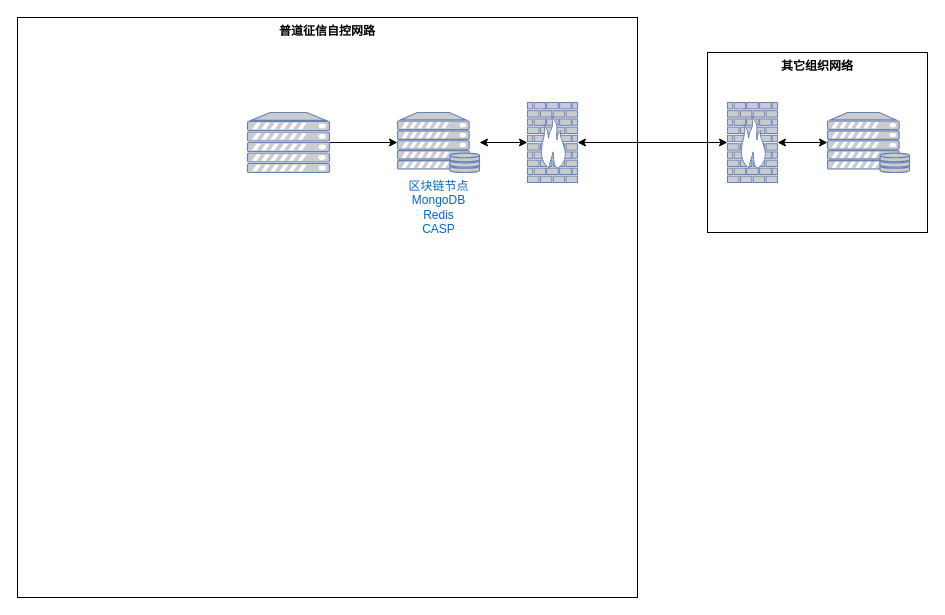
The diagram is 945 pixels wide and 615 high, and some of its shapes have lost their labels. The shapes that lost their labels are listed below. From the top down, each one's box as (x1, y1, x2, y2) in pixels, then its label:
(246, 111, 330, 173): 长安链应用支撑平台
(826, 111, 910, 173): 区块链节点
